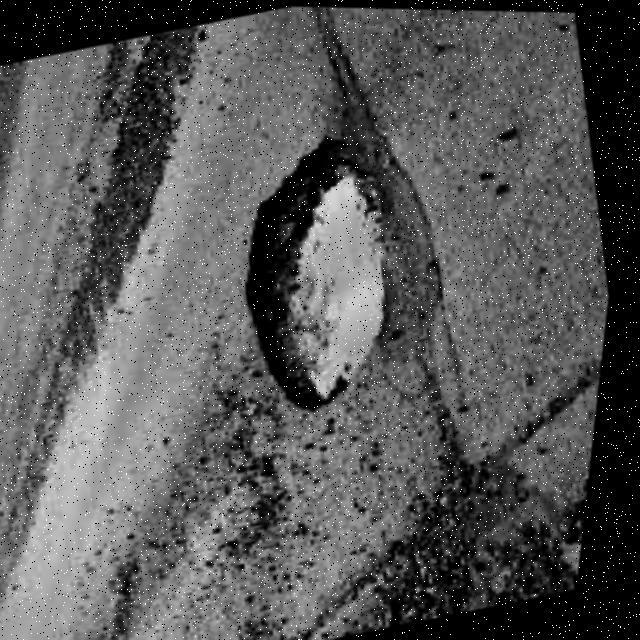pothole: (199, 118, 442, 426)
